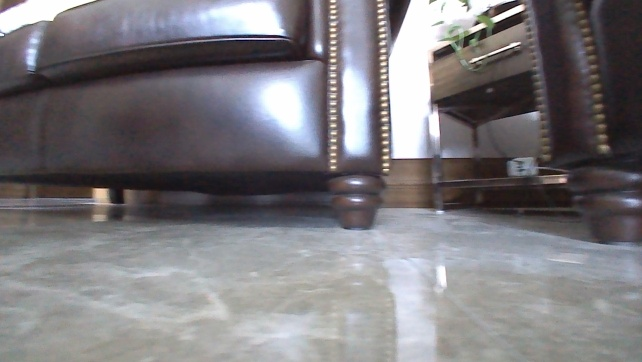sofa1: (0, 0, 395, 233)
